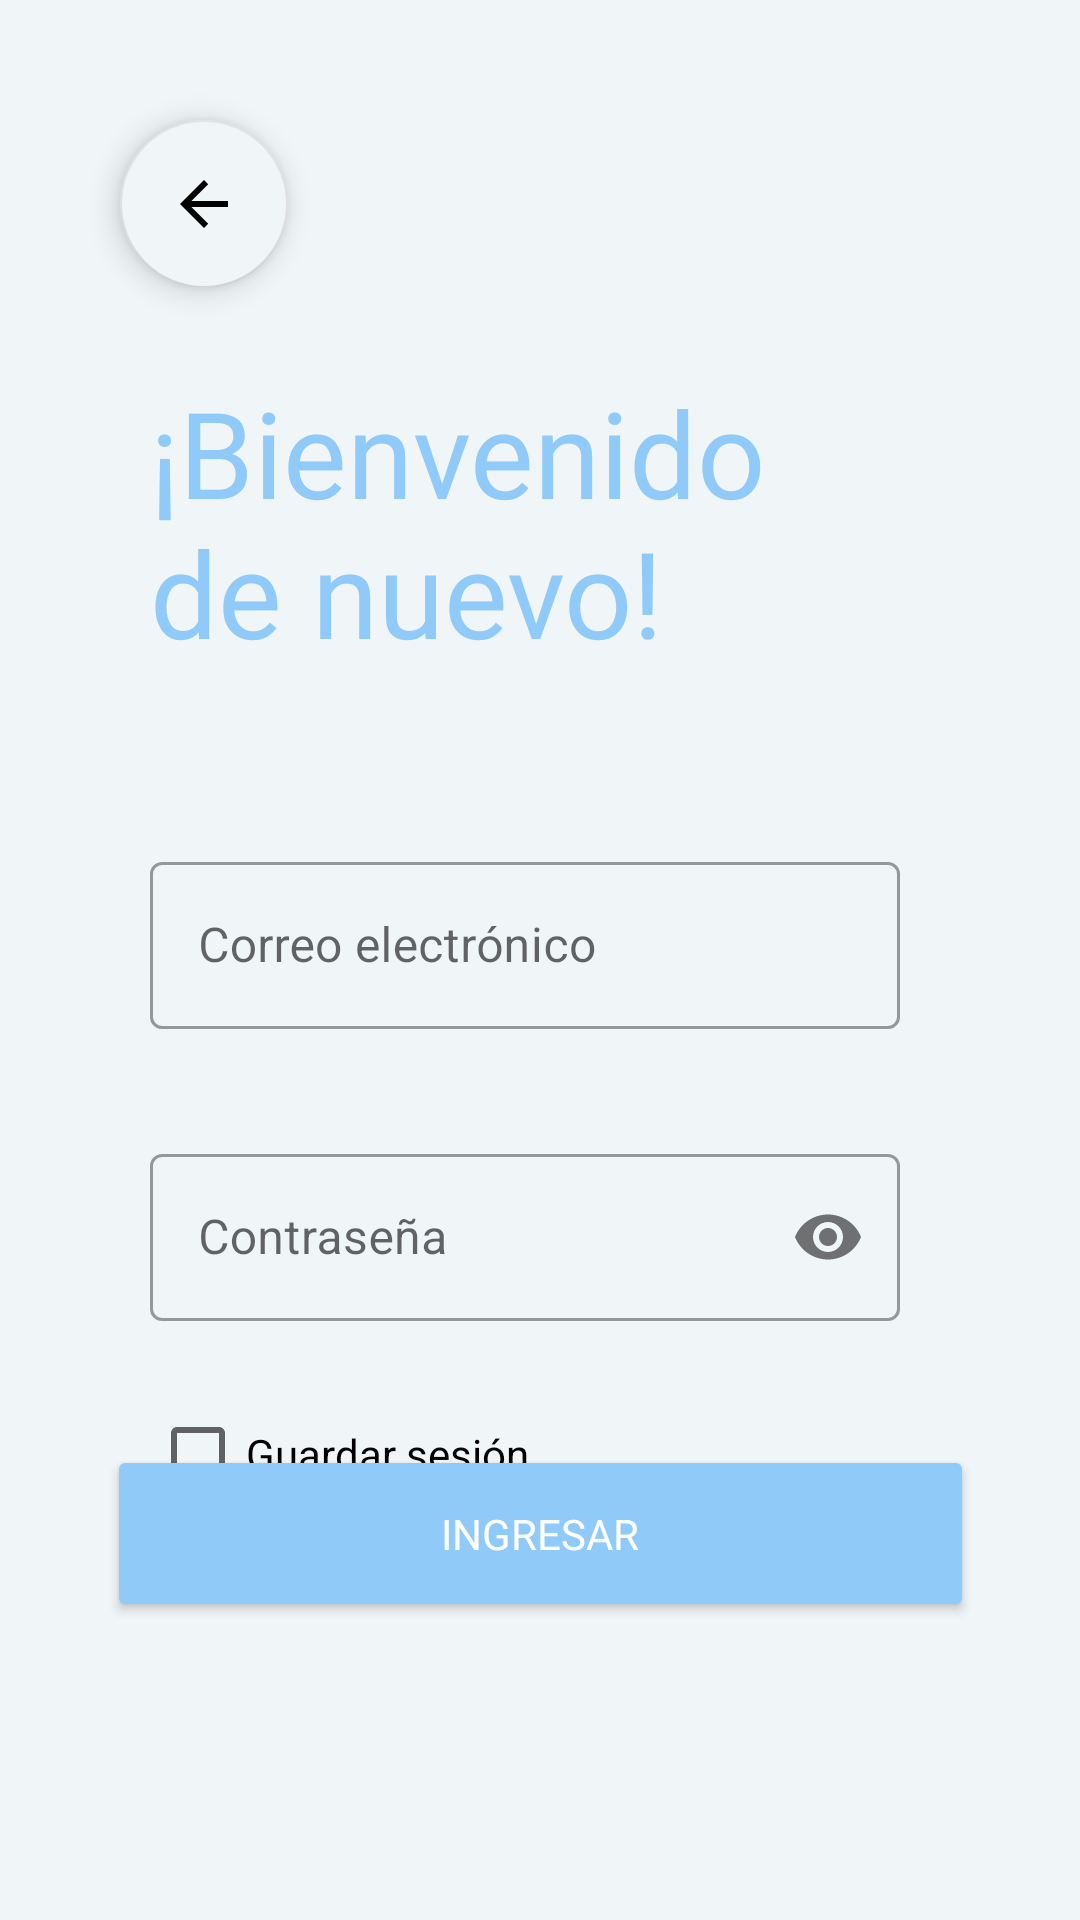

Named icons in this screenshot (1080x1920) and their bounding boxes, box(x1, y1, x2, y2):
Botón para regresar a la pantalla de inicio: box(120, 153, 286, 288)
